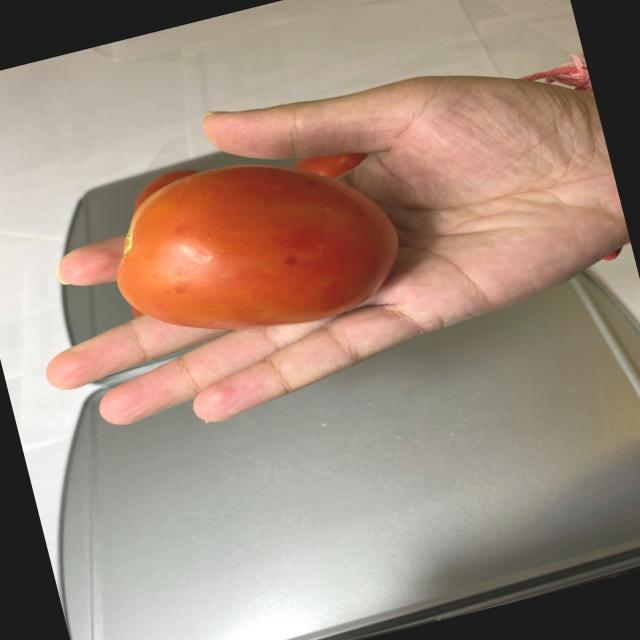tomato: (89, 125, 412, 363)
